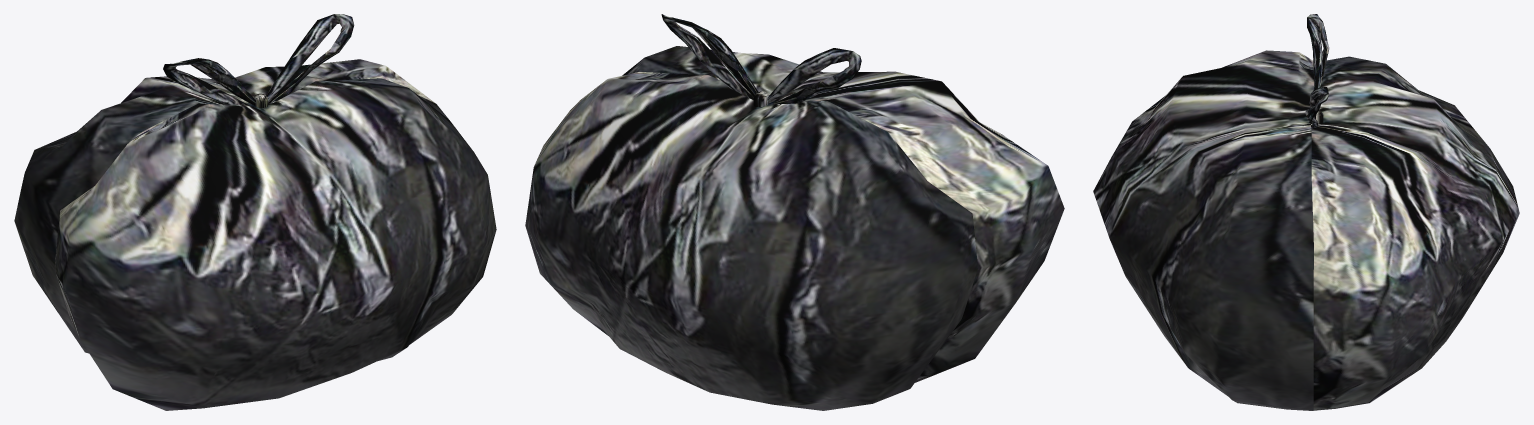
Rendered from 쓰레기봉부.FBX.
The picture shows the model from 3 angles, left to right: view 1: azimuth 30°, elevation 25°; view 2: azimuth 150°, elevation 25°; view 3: azimuth 270°, elevation 25°; orthographic projection. The views are drawn at different scales.
Parts seen in each view (by area): view 1: Box001; view 2: Box001; view 3: Box001.
Boxes of the visible parts, <box> form: Box001: <box>14,14,496,410</box>; Box001: <box>525,14,1064,410</box>; Box001: <box>1093,14,1519,410</box>.
Bounding box in the file's own units: 24.41 × 21.39 × 17.3.
